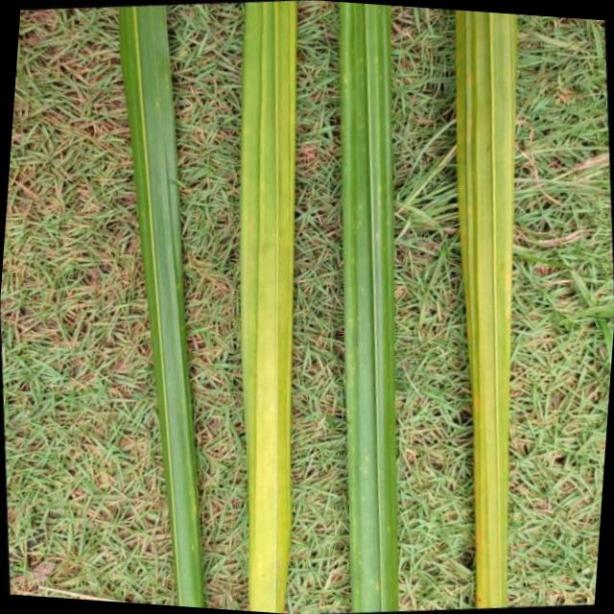nitrogen: (115, 0, 202, 614), (446, 0, 520, 614), (328, 0, 400, 614), (238, 0, 298, 614)
